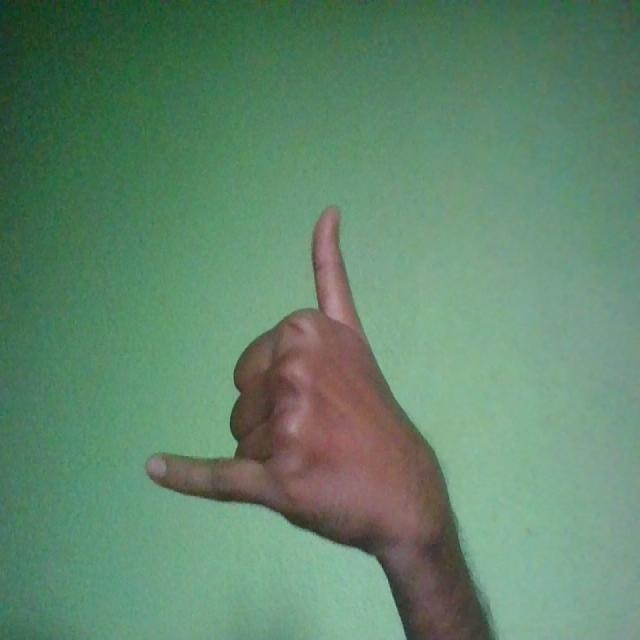Call Me: (147, 205, 459, 560)
